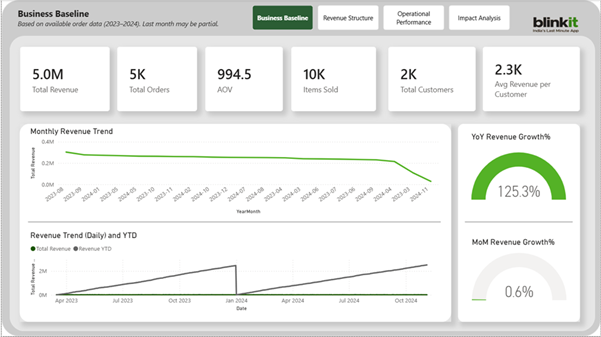

Layout of this report page (visuals, bound fields, positions):
{"tool":"powerbi","page":{"name":"Business Baseline","canvas":[1280,720],"ordinal":0},"visuals":[{"type":"shape","box":[0,0,1280,719.7],"z":0},{"type":"shape","box":[16.6,76.3,1250.9,632.4],"z":1000},{"type":"textbox","box":[29.1,11.1,506.2,62.4],"z":2000},{"type":"image","box":[1121.9,0,124.8,106.8],"z":3000},{"type":"shape","box":[38.8,264.5,922.2,424.4],"z":4000},{"type":"shape","box":[974.9,264.9,260.7,424.4],"z":5000},{"type":"shape","box":[56.9,462.8,882,23.6],"z":6000},{"type":"shape","box":[990.2,463.2,230.2,23.6],"z":7000},{"type":"cardVisual","fields":{"Data":["KPI_Measures.Total Revenue"]},"box":[39.7,100,191.4,138],"z":8000},{"type":"cardVisual","fields":{"Data":["KPI_Measures.Total Orders"]},"box":[246.6,100,170.7,138],"z":9000},{"type":"cardVisual","fields":{"Data":["KPI_Measures.AOV"]},"box":[434.6,100,165.6,138],"z":10000},{"type":"cardVisual","fields":{"Data":["KPI_Measures.Items Sold"]},"box":[619.1,100,181.1,138],"z":11000},{"type":"cardVisual","fields":{"Data":["KPI_Measures.Total Customers"]},"box":[826.1,100,186.3,138],"z":12000},{"type":"cardVisual","fields":{"Data":["KPI_Measures.Avg Revenue per Customer"]},"box":[1027.9,100,207,138],"z":13000},{"type":"lineChart","title":"Monthly Revenue Trend","fields":{"Y":["KPI_Measures.Total Revenue"],"Category":["DimDate.YearMonth"]},"box":[56.9,270.8,881.3,193.2],"z":14000},{"type":"lineChart","title":"Revenue Trend (Daily) and YTD","fields":{"Category":["DimDate.Date"],"Y":["KPI_Measures.Total Revenue","KPI_Measures.Revenue YTD"]},"box":[56.9,493.2,881.3,177.6],"z":15000},{"type":"gauge","title":"YoY Revenue Growth%","fields":{"Y":["KPI_Measures.Revenue YOY%"]},"box":[998.6,282.8,212.1,169],"z":16000},{"type":"gauge","title":"MoM Revenue Growth%","fields":{"Y":["KPI_Measures.Revenue MOM%"]},"box":[1000.3,508.8,212.1,148.3],"z":17000},{"type":"pageNavigator","box":[535.6,11,553.9,53.8],"z":18000}]}

Visuals, with their boxes in screenshot pixels (x1, y1, x2, y2), scaled from the page's 1280x720 canvas onto the 601x337 screenshot:
shape: bbox=[0, 0, 600, 336]
shape: bbox=[8, 36, 595, 332]
textbox: bbox=[14, 5, 251, 34]
image: bbox=[527, 0, 585, 50]
shape: bbox=[18, 124, 451, 322]
shape: bbox=[458, 124, 580, 323]
shape: bbox=[27, 217, 441, 228]
shape: bbox=[465, 217, 573, 228]
cardVisual - KPI_Measures.Total Revenue: bbox=[19, 47, 109, 111]
cardVisual - KPI_Measures.Total Orders: bbox=[116, 47, 196, 111]
cardVisual - KPI_Measures.AOV: bbox=[204, 47, 282, 111]
cardVisual - KPI_Measures.Items Sold: bbox=[291, 47, 376, 111]
cardVisual - KPI_Measures.Total Customers: bbox=[388, 47, 475, 111]
cardVisual - KPI_Measures.Avg Revenue per Customer: bbox=[483, 47, 580, 111]
"Monthly Revenue Trend" lineChart: bbox=[27, 127, 441, 217]
"Revenue Trend (Daily) and YTD" lineChart: bbox=[27, 231, 441, 314]
"YoY Revenue Growth%" gauge: bbox=[469, 132, 568, 211]
"MoM Revenue Growth%" gauge: bbox=[470, 238, 569, 308]
pageNavigator: bbox=[251, 5, 512, 30]
